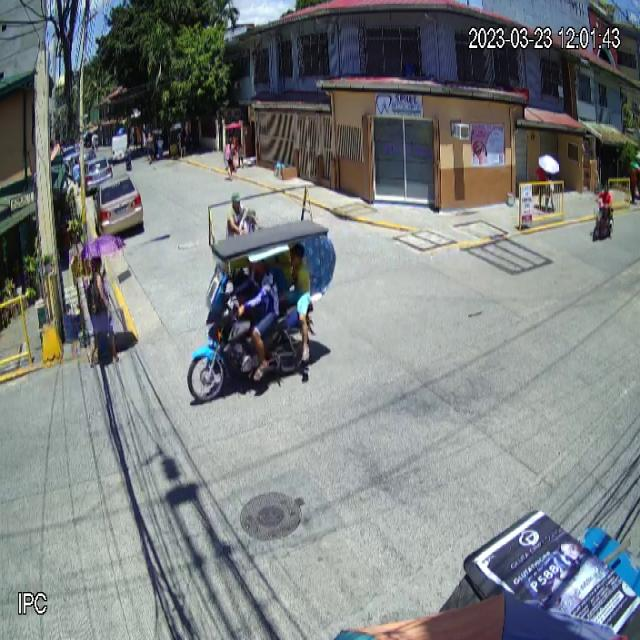Tricycle: (186, 222, 336, 405)
